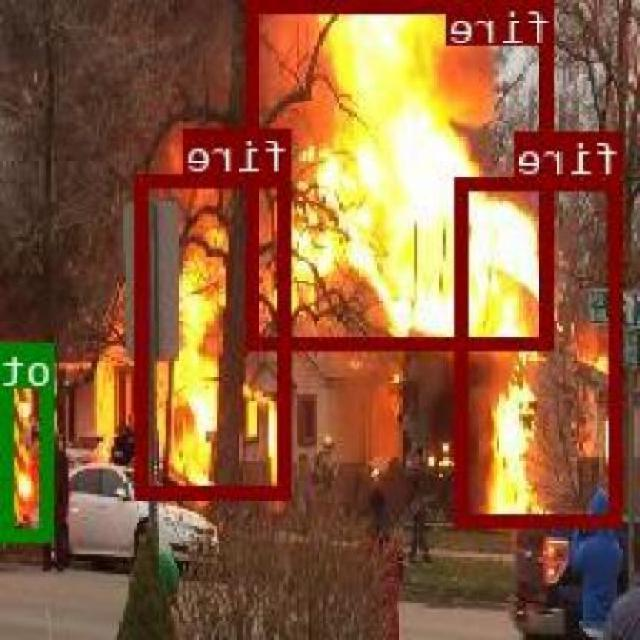Fire: (252, 0, 558, 346), (458, 177, 624, 526), (138, 172, 292, 496)
